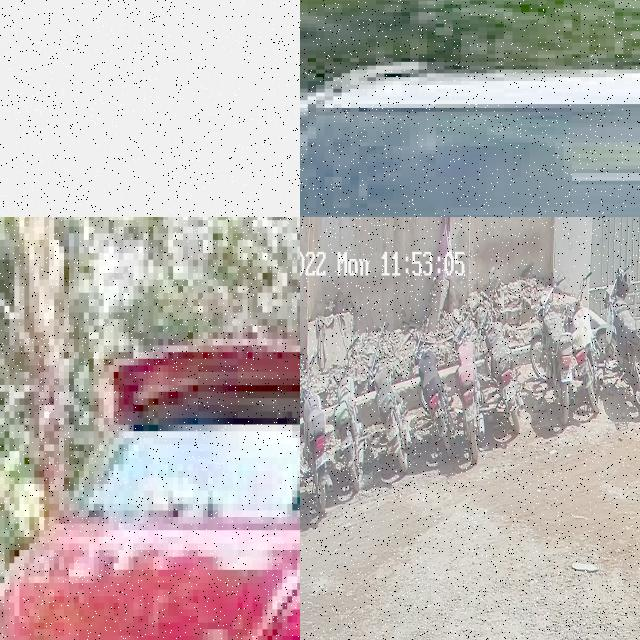bike: (478, 265, 524, 433), (529, 276, 575, 424), (366, 322, 411, 472), (595, 265, 640, 408), (413, 306, 455, 458), (325, 338, 364, 491), (562, 271, 604, 413), (300, 348, 332, 511), (452, 302, 484, 461)
car: (0, 339, 300, 640), (300, 50, 640, 217)
